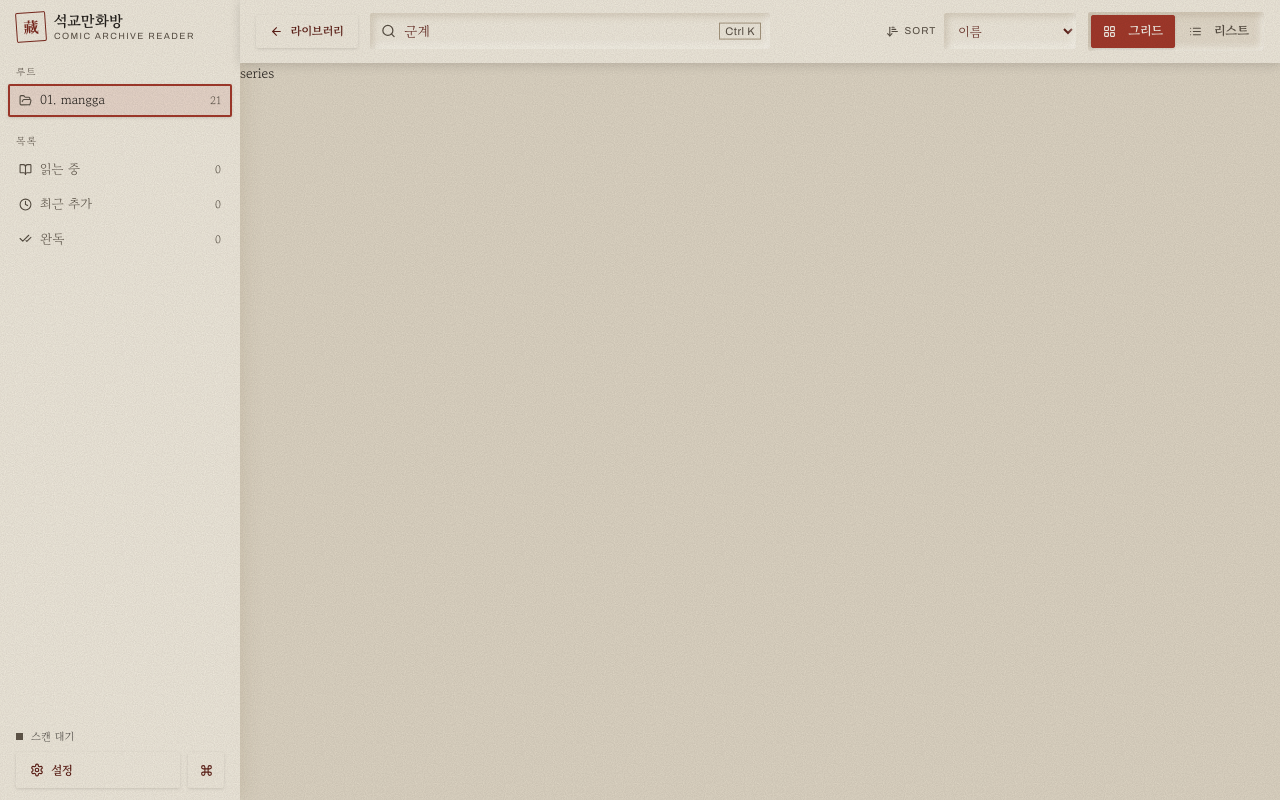
it: routing (ui-spec §3) › leaves the sidebar filter and the search box alone doing it (E-34 §1)
Click the button "라이브러리" at point(307, 31), box [256,15,358,48]
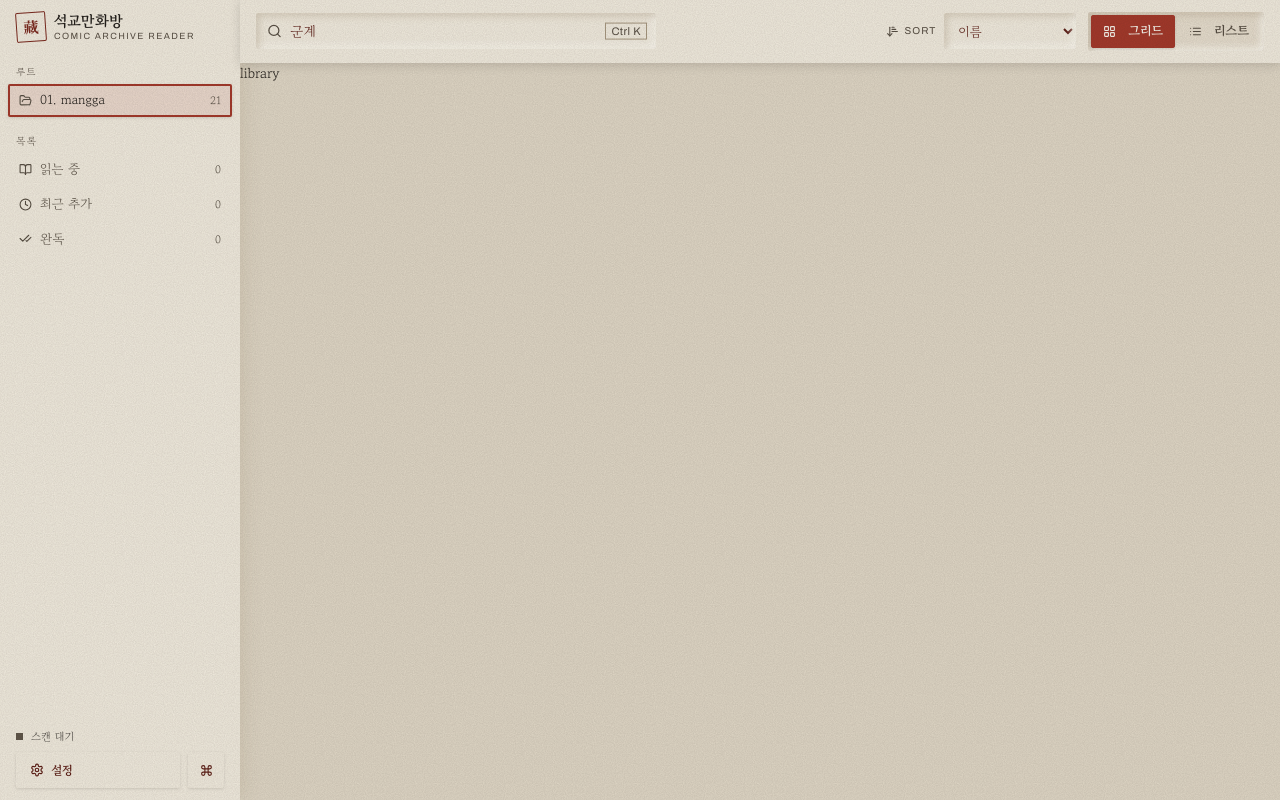
Check: the text "01. mangga" is shown, box [40,90,105,109]
Check: the text "library" is shown, box [240,63,279,83]
